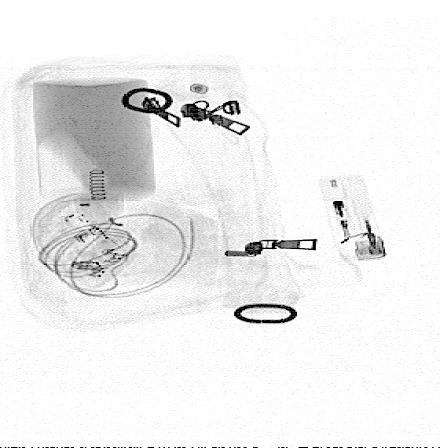Lighter: (320, 175, 389, 261)
